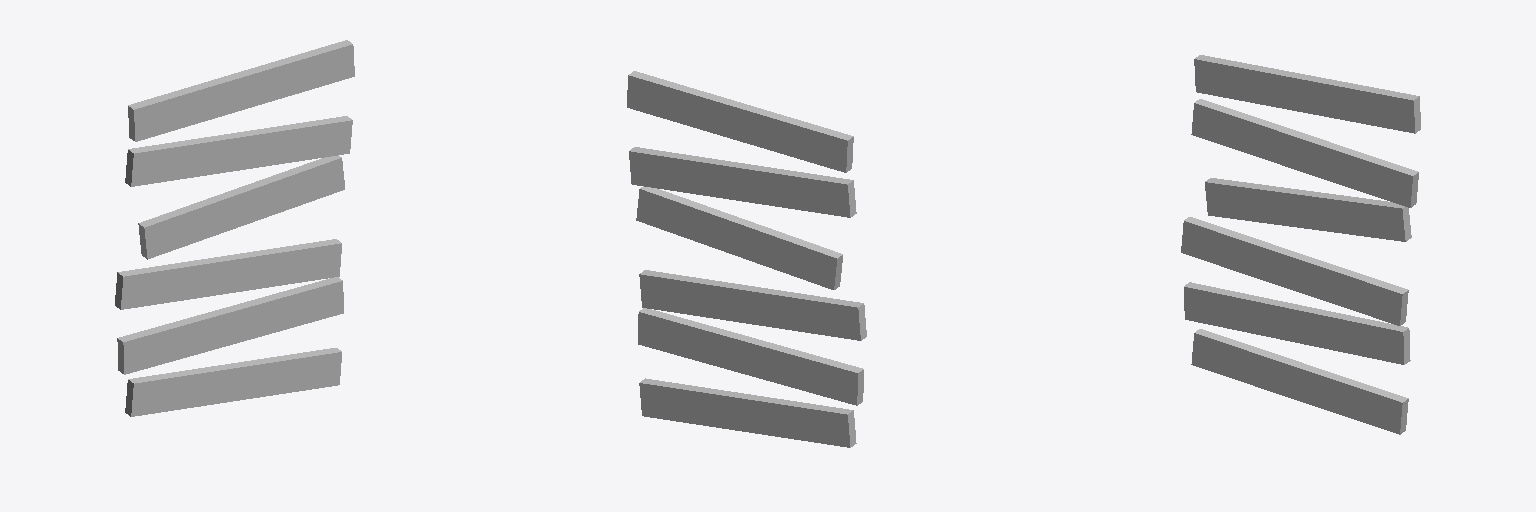
File: 628_boarded_wood_planks.obj
3 views of the same model, side by side, from view 1: azimuth 30°, elevation 25°; view 2: azimuth 150°, elevation 25°; view 3: azimuth 330°, elevation 25° (orthographic).
Parts seen in each view (by area): view 1: Shape6, Shape2, Shape5, Shape3, Shape1, Shape4; view 2: Shape6, Shape2, Shape3, Shape5, Shape1, Shape4; view 3: Shape3, Shape5, Shape2, Shape6, Shape1, Shape4.
Part boxes in pixels (bbox=[...]): Shape6: bbox=[128, 40, 354, 141]; Shape2: bbox=[117, 277, 343, 374]; Shape5: bbox=[125, 116, 352, 186]; Shape3: bbox=[115, 239, 341, 309]; Shape1: bbox=[125, 348, 341, 416]; Shape4: bbox=[138, 155, 344, 259]; Shape6: bbox=[627, 71, 853, 172]; Shape2: bbox=[638, 308, 863, 405]; Shape3: bbox=[639, 270, 866, 340]; Shape5: bbox=[629, 147, 856, 217]; Shape1: bbox=[639, 378, 856, 447]; Shape4: bbox=[636, 186, 842, 289]; Shape3: bbox=[1181, 217, 1408, 325]; Shape5: bbox=[1191, 99, 1418, 207]; Shape2: bbox=[1184, 282, 1410, 364]; Shape6: bbox=[1194, 55, 1420, 133]; Shape1: bbox=[1191, 329, 1408, 434]; Shape4: bbox=[1205, 178, 1411, 241].
Bounding box in the file's own units: 1.4 × 1.94 × 0.5001.